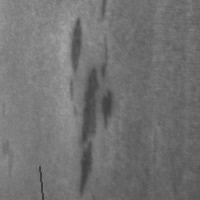inclusion: (76, 35, 114, 197), (65, 15, 87, 103), (97, 86, 117, 132), (2, 139, 23, 178), (37, 164, 45, 200), (99, 1, 110, 23)
